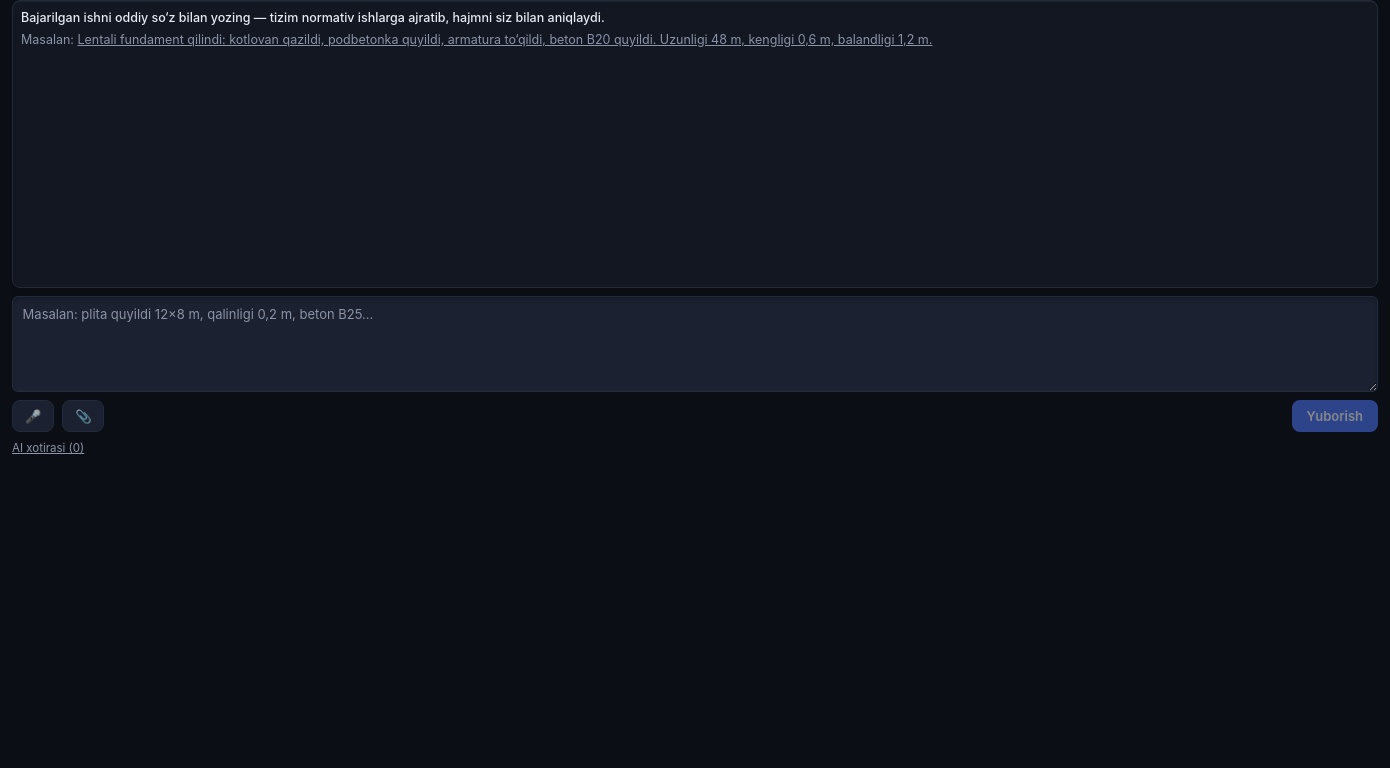
Test: editing the formula recomputes the quantity; an invalid formula blocks adding
The image size is (1390, 768).
In the text box named "Smetachiga xabar": x=695, y=344 [12,296,1378,392], type "podbetonka"
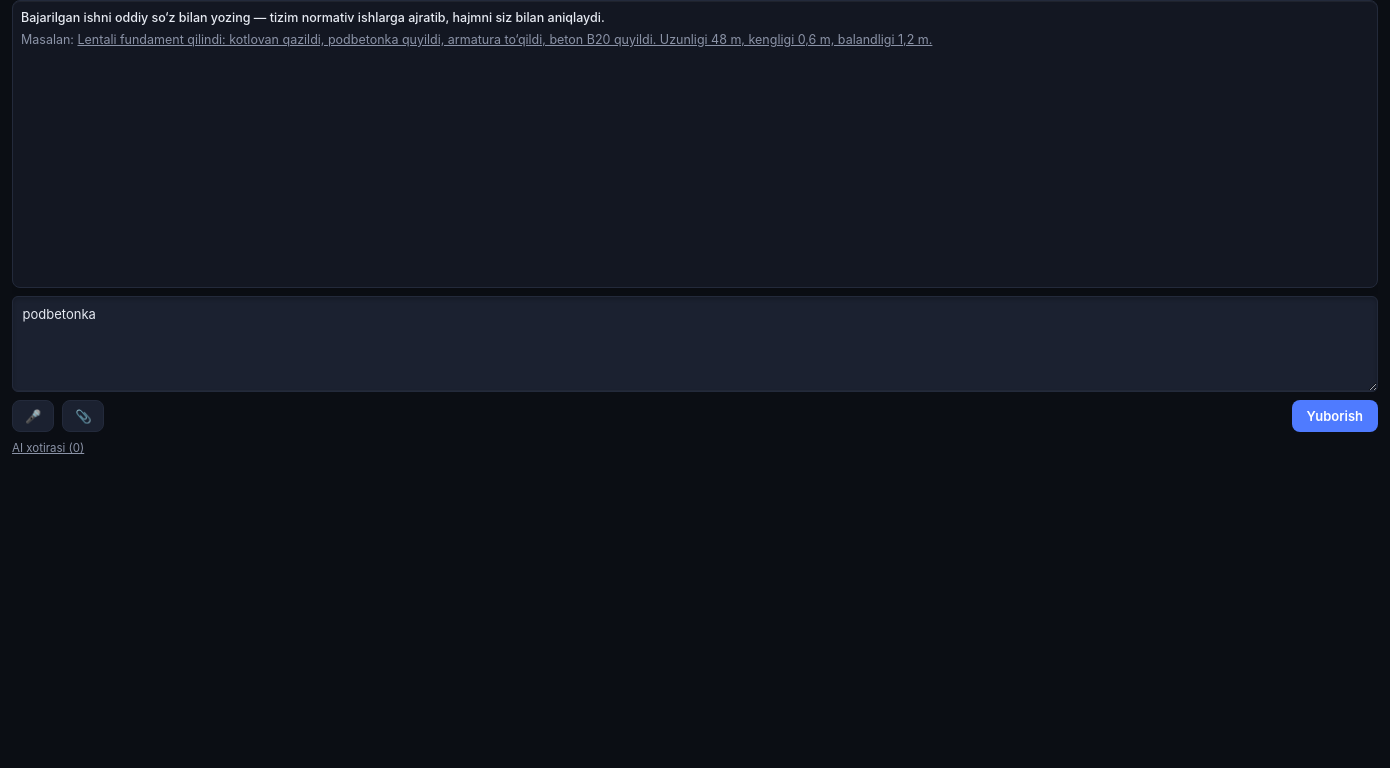
Click the button "Yuborish": x=1335, y=416 [1292,400,1378,432]
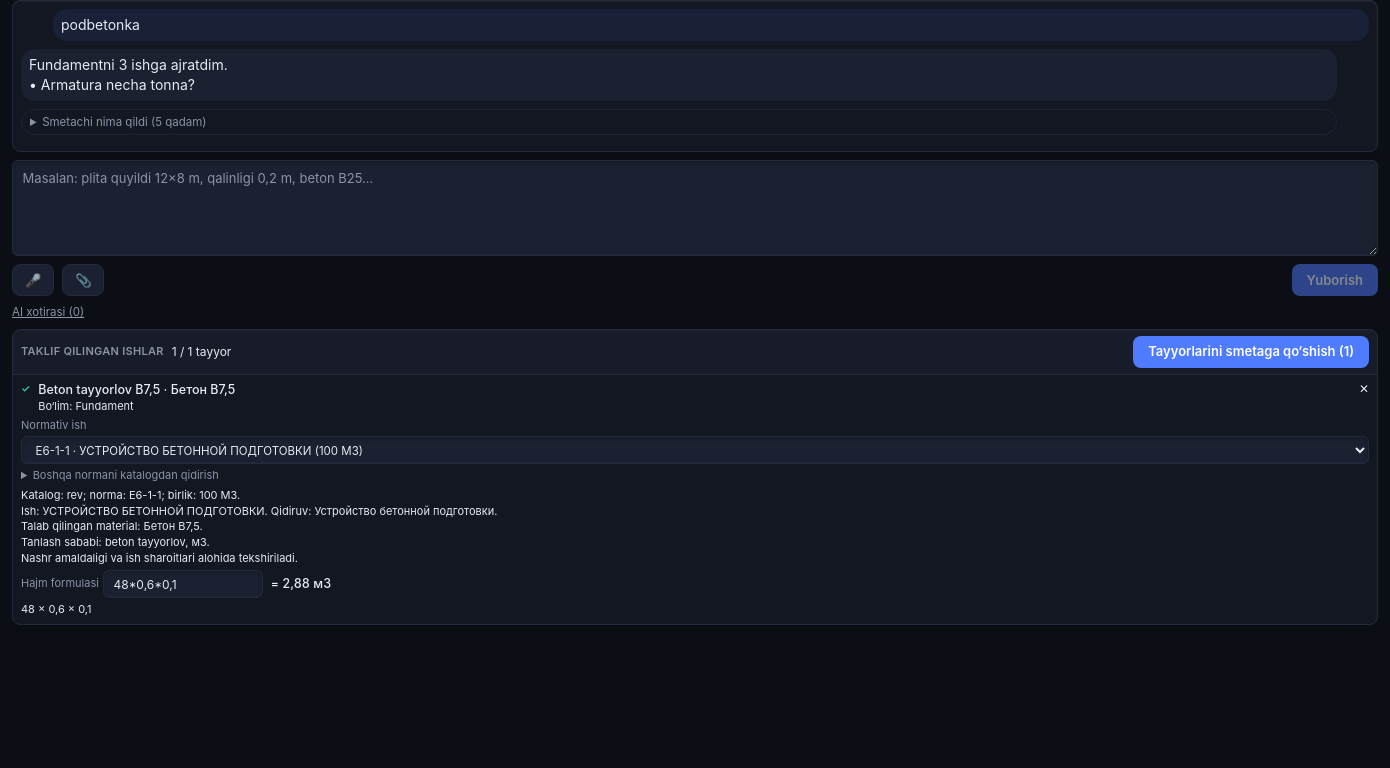
Replace the text in the field showing "48*0,6*0,1" with "50*0,6*0,1": x=183, y=584 [103,570,263,598]
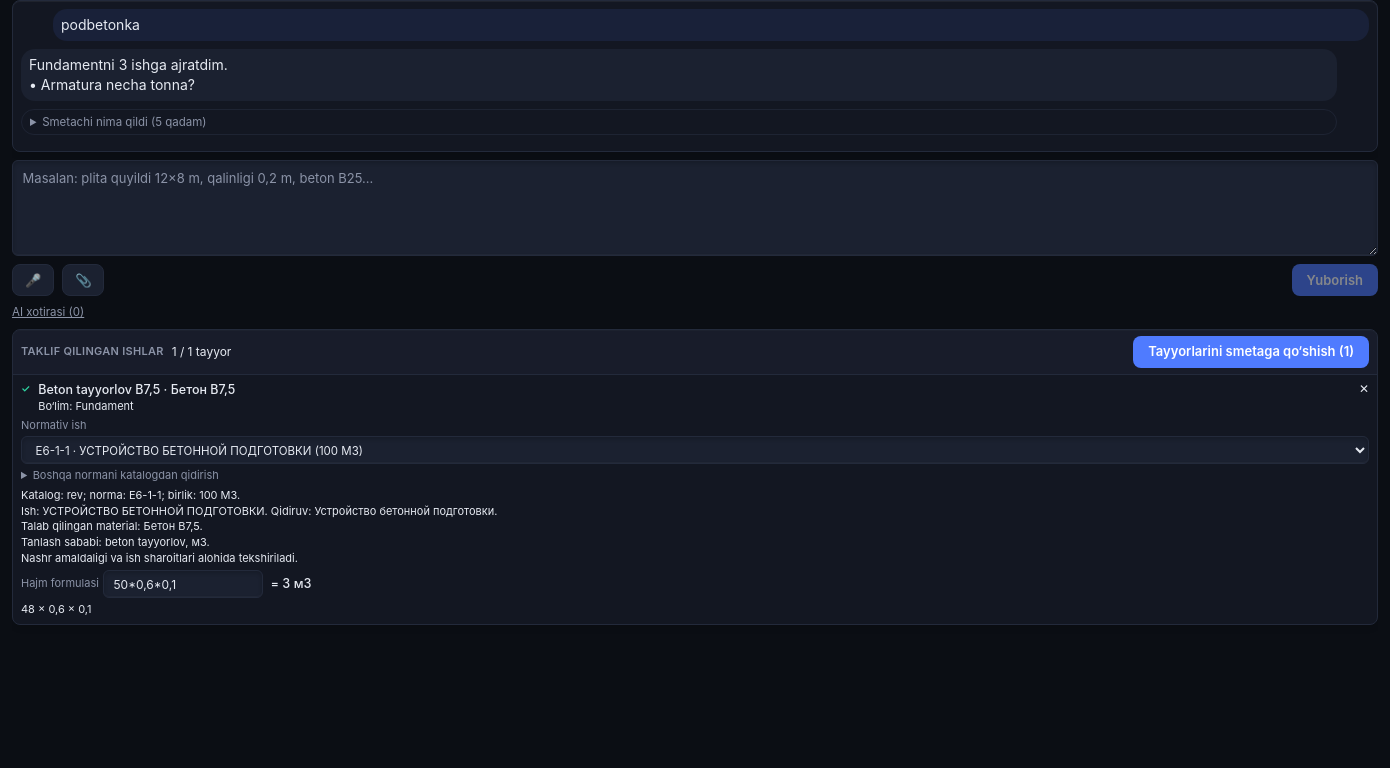
Check: the text "= 3 м3" is shown, box [271,575,312,593]
Replace the text in the field showing "48*0,6*0,1" with "alert(1)": x=183, y=584 [103,570,263,598]
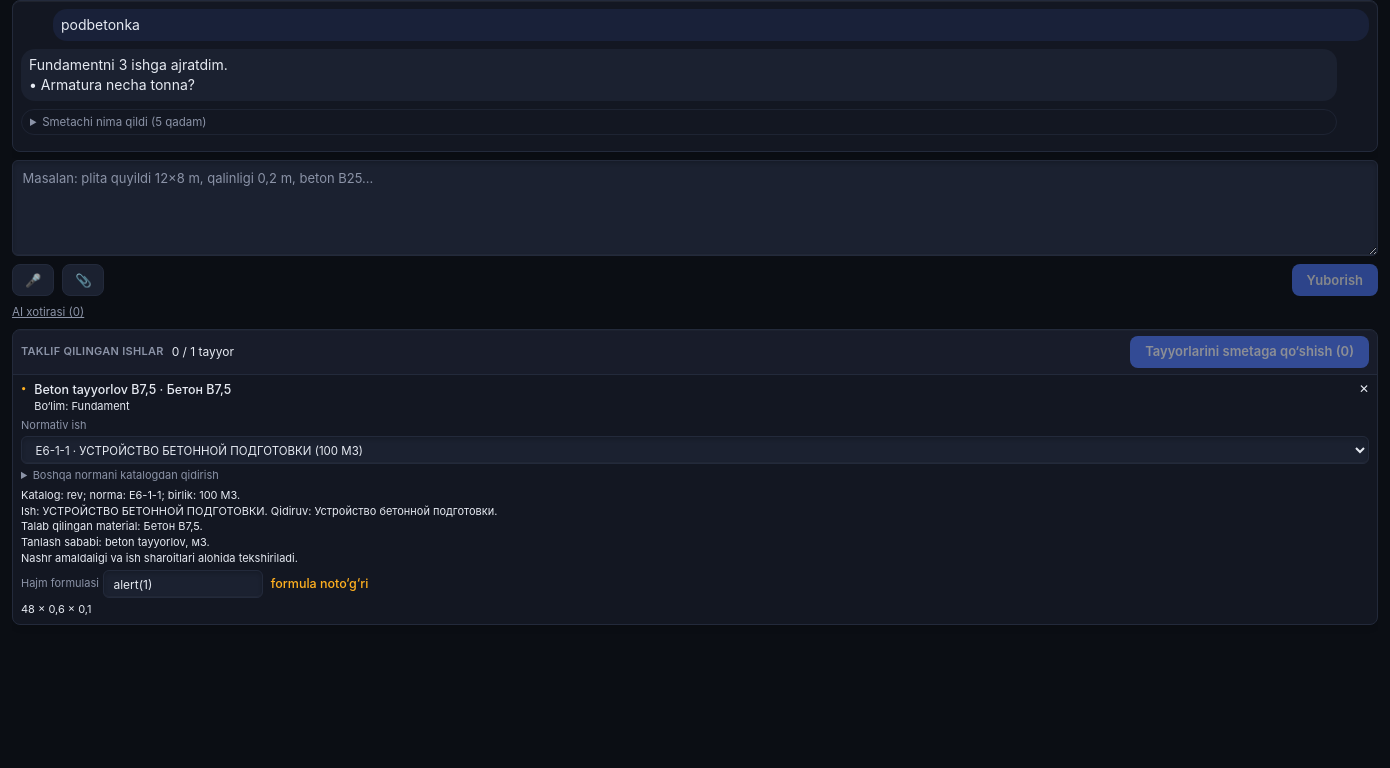
Check: the text "formula noto‘g‘ri" is shown, box [271,576,368,591]
Check: the button "Tayyorlarini smetaga qo‘shish (0)" is disabled, box [1130,336,1369,368]
